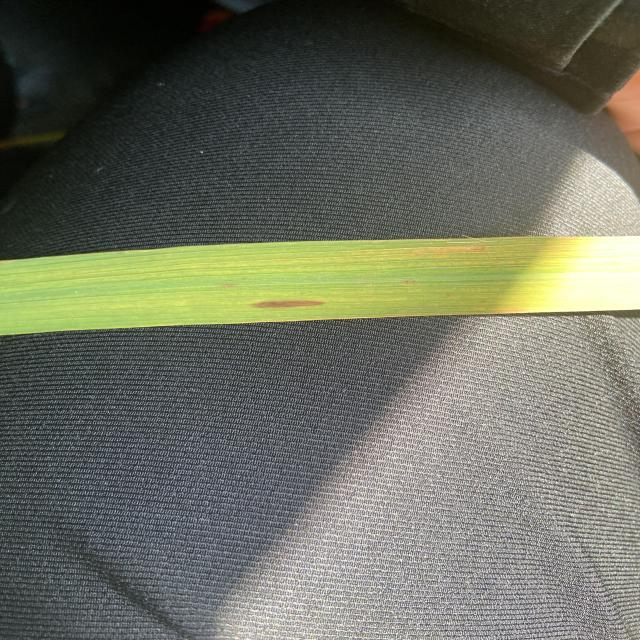Dom nau: (252, 301, 325, 308)
